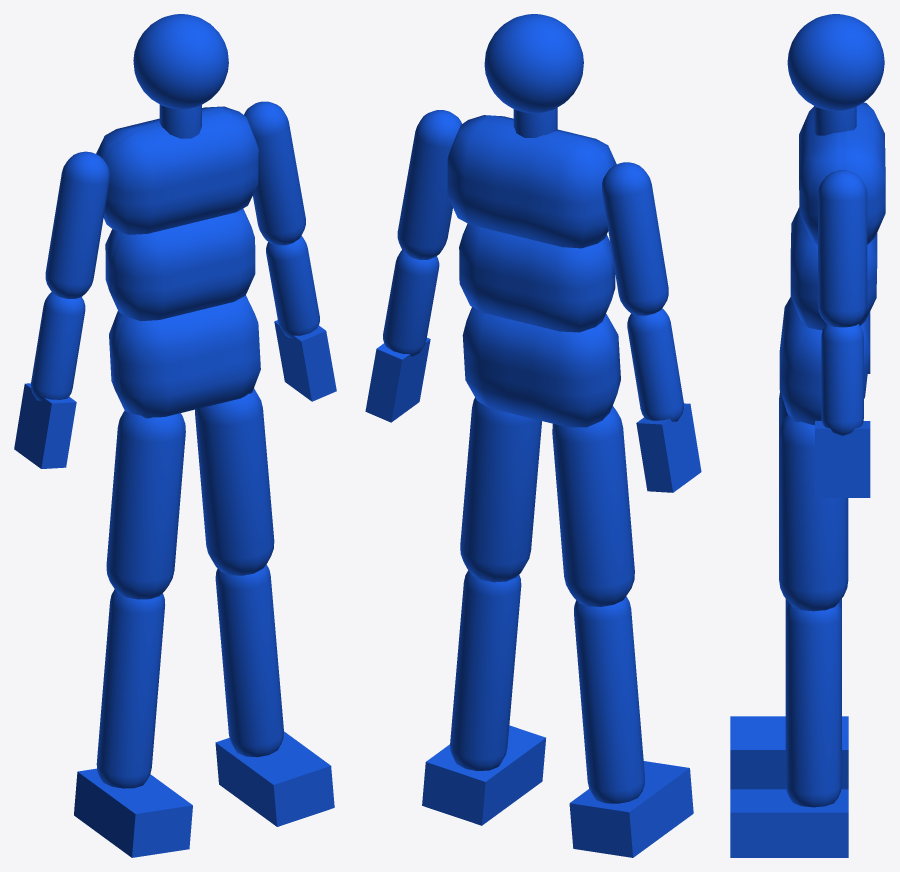
Rendered from walker.fbx.
The picture shows the model from 3 angles, left to right: view 1: azimuth 30°, elevation 25°; view 2: azimuth 150°, elevation 25°; view 3: azimuth 270°, elevation 25°; orthographic projection. The views are drawn at different scales.
Parts seen in each view (by area): view 1: convexhull_002, convexhull_0, convexhull_001, Capsule002, Capsule005, Capsule003, Capsule004, Box001, Box002, Sphere001, Capsule010, Capsule007 (+5 smaller); view 2: convexhull_002, convexhull_0, Capsule002, convexhull_001, Capsule005, Capsule003, Capsule004, Sphere001, Capsule010, Box001, Box002, Capsule007 (+5 smaller); view 3: Capsule004, Capsule005, Sphere001, Box002, Capsule007, convexhull_002, convexhull_0, Box001, Capsule008, Box003, convexhull_001, Capsule006.
Part boxes in pixels (<box>): convexhull_002: <box>96,106,258,234</box>; convexhull_0: <box>109,295,260,418</box>; convexhull_001: <box>105,208,255,321</box>; Capsule002: <box>106,410,185,599</box>; Capsule005: <box>195,388,274,575</box>; Capsule003: <box>96,589,165,788</box>; Capsule004: <box>215,564,283,757</box>; Box001: <box>74,768,192,857</box>; Box002: <box>215,731,334,826</box>; Sphere001: <box>133,14,228,109</box>; Capsule010: <box>45,151,109,298</box>; Capsule007: <box>244,101,305,245</box>; convexhull_002: <box>447,115,616,248</box>; convexhull_0: <box>462,307,620,427</box>; Capsule002: <box>552,406,634,606</box>; convexhull_001: <box>459,223,615,332</box>; Capsule005: <box>460,397,541,582</box>; Capsule003: <box>574,596,644,803</box>; Capsule004: <box>450,570,521,771</box>; Sphere001: <box>484,14,583,113</box>; Capsule010: <box>602,162,668,315</box>; Box001: <box>569,761,693,857</box>; Box002: <box>422,725,545,825</box>; Capsule007: <box>397,110,461,259</box>; Capsule004: <box>785,603,841,807</box>; Capsule005: <box>779,414,848,611</box>; Sphere001: <box>787,14,884,110</box>; Box002: <box>730,789,848,857</box>; Capsule007: <box>818,170,867,327</box>; convexhull_002: <box>799,102,885,244</box>; convexhull_0: <box>779,297,870,425</box>; Box001: <box>730,716,848,789</box>; Capsule008: <box>821,324,863,435</box>; Box003: <box>815,421,870,497</box>; convexhull_001: <box>790,207,877,330</box>; Capsule006: <box>814,106,856,135</box>.
Bounding box in the file's own units: 0.7134 × 0.3189 × 1.8.
